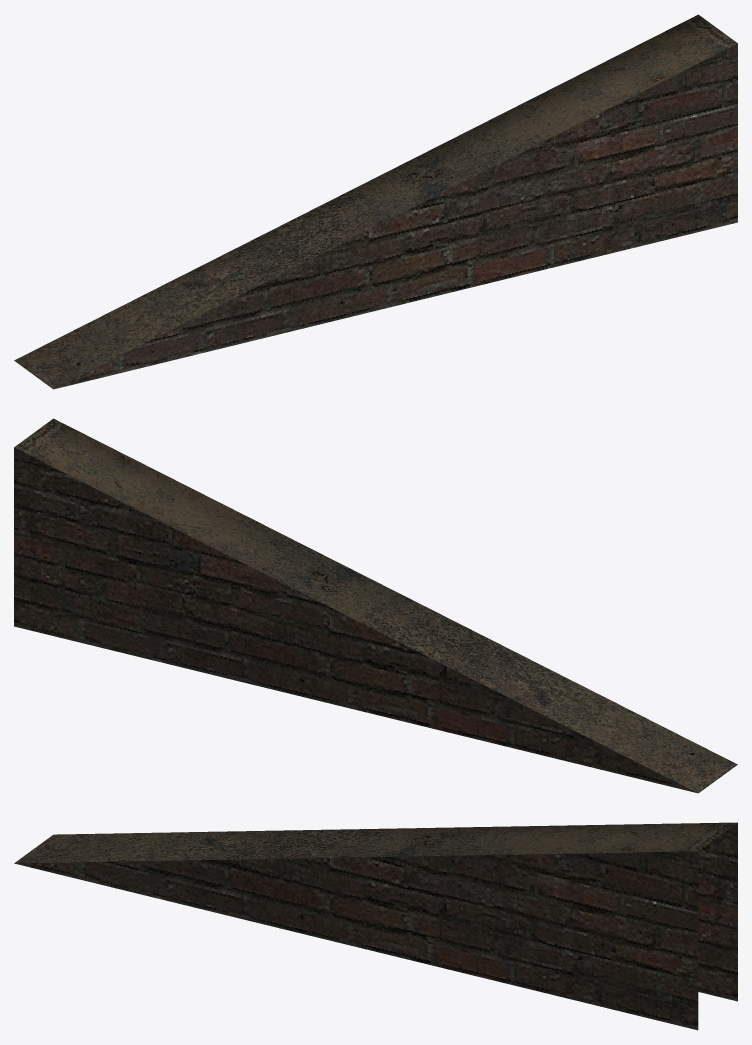
Rendered from wall_top_part_hs_1.glb.
The picture shows the model from 3 angles, top to bottom: view 1: azimuth 30°, elevation 25°; view 2: azimuth 150°, elevation 25°; view 3: azimuth 330°, elevation 25°; orthographic projection.
Parts seen in each view (by area): view 1: wall_top_part_hs_1; view 2: wall_top_part_hs_1; view 3: wall_top_part_hs_1.
Boxes of the visible parts, x1,y1,x2,y2 form: wall_top_part_hs_1: (14,14,737,389); wall_top_part_hs_1: (14,418,737,793); wall_top_part_hs_1: (14,822,737,1030).
Bounding box in the file's own units: 4 × 1 × 0.4.
Materials: 2 (2 with a texture image).
